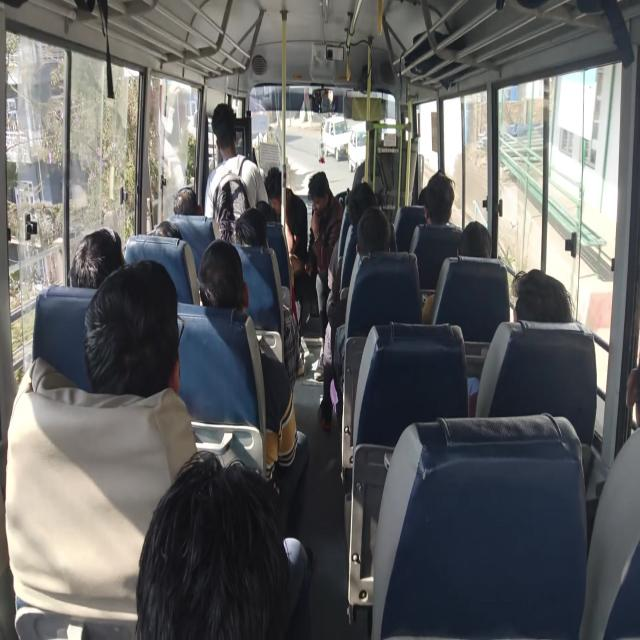person: (135, 452, 298, 637), (486, 272, 576, 433), (82, 259, 180, 400), (429, 222, 497, 334), (408, 172, 463, 292), (309, 170, 345, 340), (280, 176, 311, 340), (509, 267, 574, 324), (67, 227, 125, 290), (197, 238, 245, 310), (356, 204, 392, 256), (208, 103, 239, 163), (423, 169, 456, 225), (233, 207, 270, 250), (346, 180, 379, 228), (458, 220, 492, 260), (263, 166, 285, 210), (172, 186, 202, 217), (625, 363, 639, 428), (150, 220, 182, 240), (255, 199, 277, 225), (416, 186, 430, 210)
